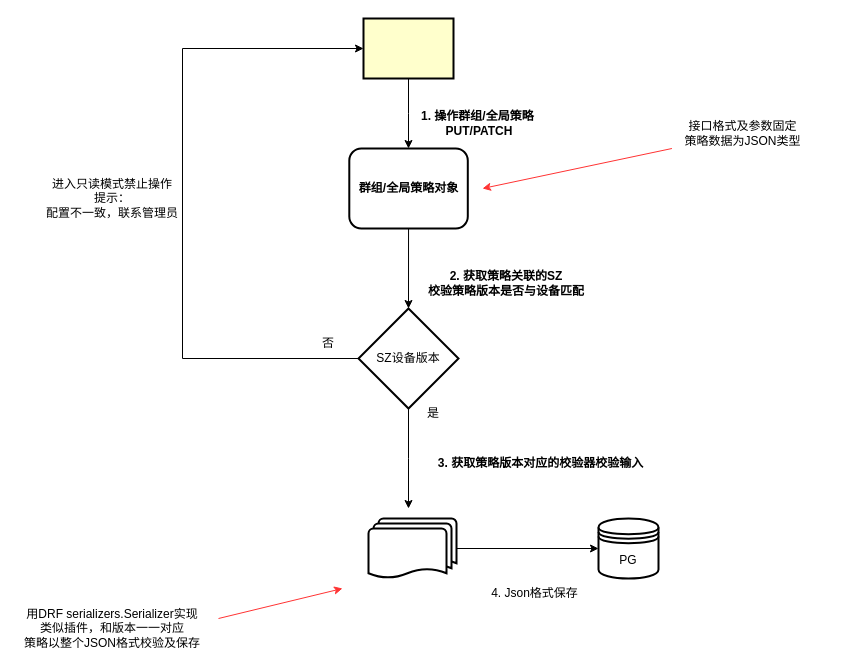
Image size: 859x667. Some labels were removed from this diagram. The centre of each missing label's shape, as x and y in pixels:
Web用户: [408,48]
序列化类 Serializers: [412,548]
